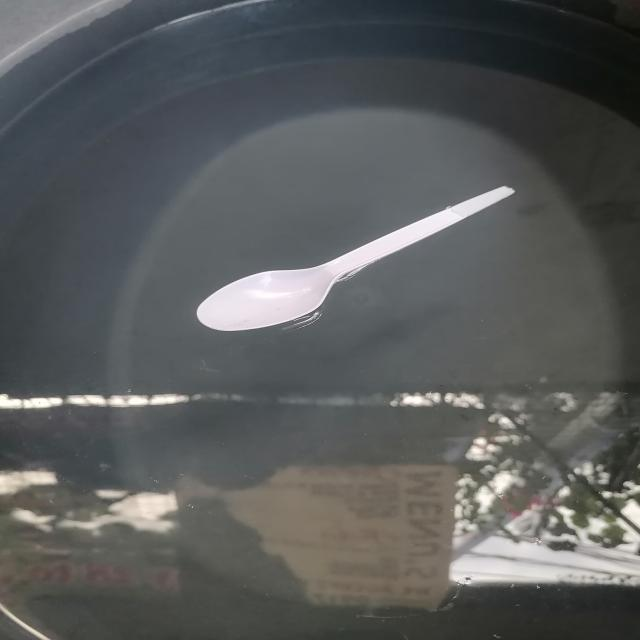Plastic Spoon: (196, 186, 514, 331)
